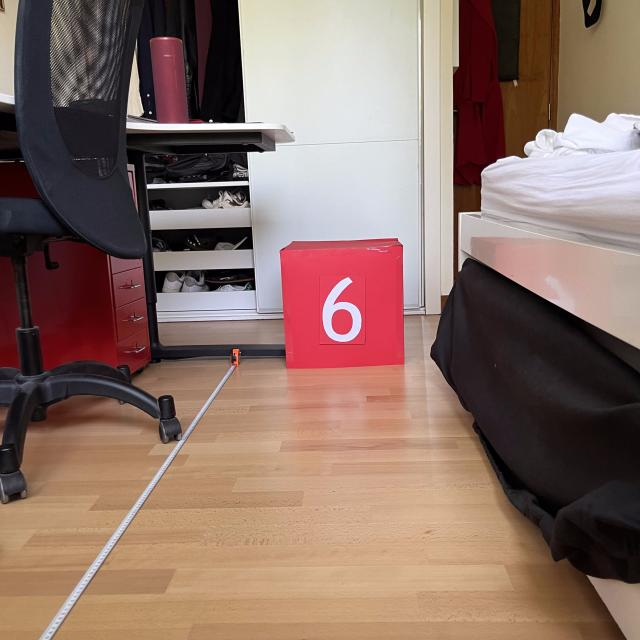box: (276, 234, 408, 371)
